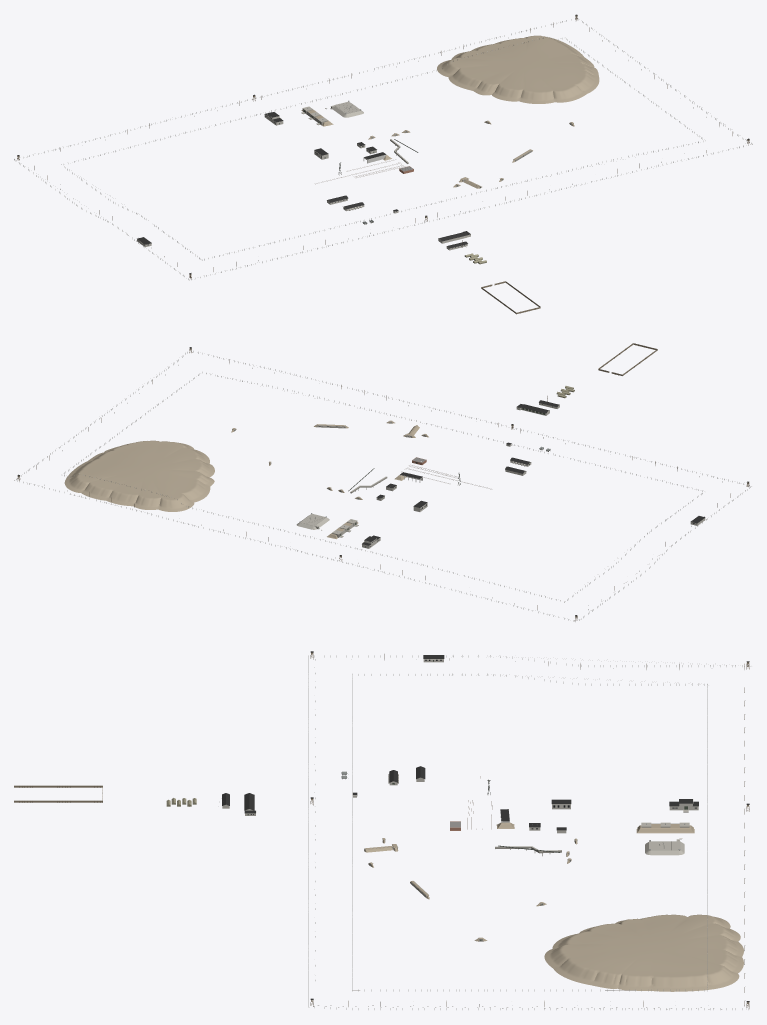
3 renders of one model, top to bottom at view 1: azimuth 30°, elevation 25°; view 2: azimuth 150°, elevation 25°; view 3: azimuth 270°, elevation 25°, orthographic. The views are drawn at different scales.
Parts seen in each view (by area): view 1: SpoilHeap_Earth; view 2: SpoilHeap_Earth; view 3: SpoilHeap_Earth.
Boxes of the visible parts, x1,y1,x2,y2 form: SpoilHeap_Earth: [437, 35, 599, 103]; SpoilHeap_Earth: [64, 440, 214, 511]; SpoilHeap_Earth: [544, 914, 743, 991].
Bounding box in the file's own units: 922 × 34.08 × 825.
